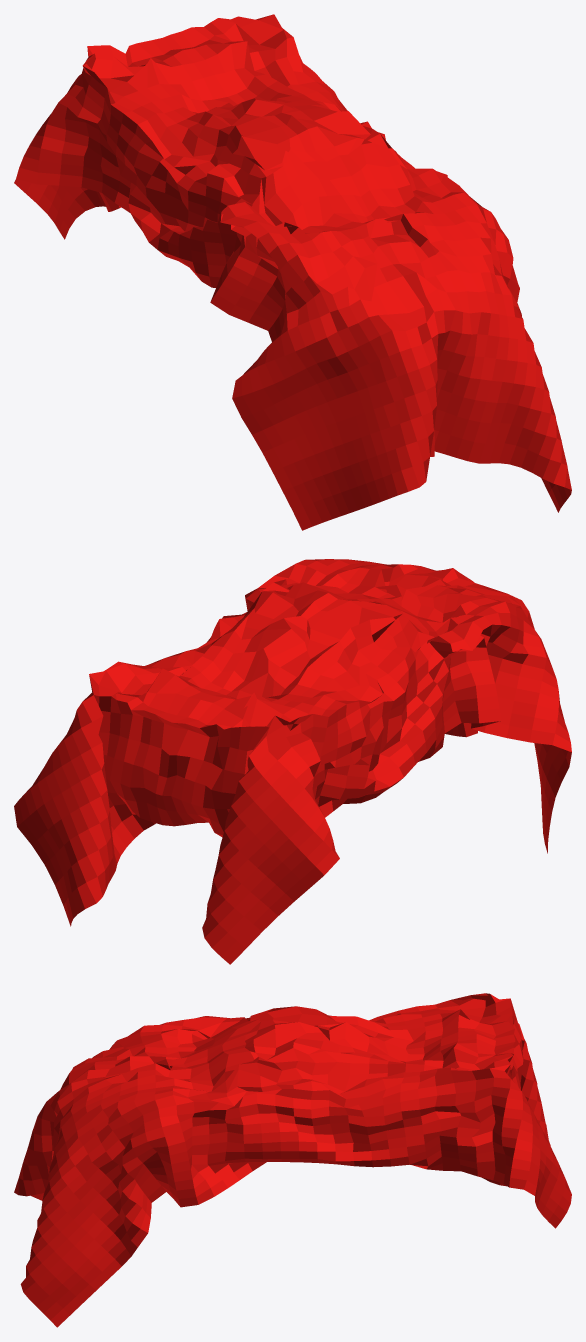
Rendered from cover.glb.
The picture shows the model from 3 angles, top to bottom: view 1: azimuth 30°, elevation 25°; view 2: azimuth 150°, elevation 25°; view 3: azimuth 270°, elevation 25°; orthographic projection. The views are drawn at different scales.
Parts seen in each view (by area): view 1: Plane; view 2: Plane; view 3: Plane.
Part boxes in pixels (x1,y1,x2,y2): Plane: [14, 14, 571, 530]; Plane: [14, 559, 571, 964]; Plane: [14, 993, 571, 1327].
Size of the model in its own units: 4.19 by 4.18 by 8.17.
